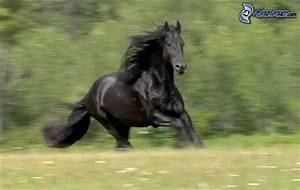horse: (40, 19, 206, 151)
